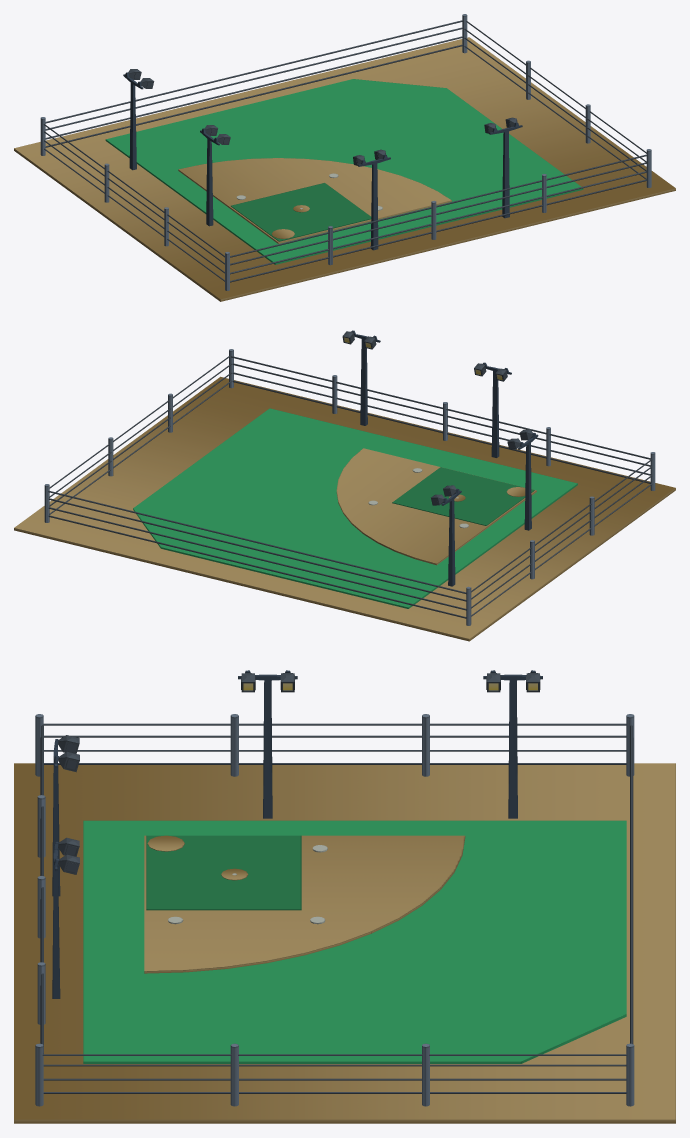
File: CUPIC_BALLPARK.obj
The picture shows the model from 3 angles, top to bottom: view 1: azimuth 30°, elevation 25°; view 2: azimuth 150°, elevation 25°; view 3: azimuth 270°, elevation 25°; orthographic projection. The views are drawn at different scales.
Size of the model in its own units: 1058 by 215 by 831.
